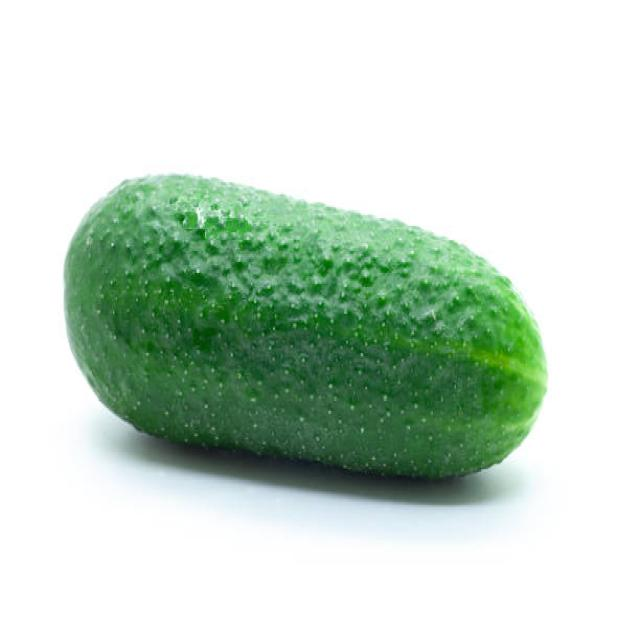cucumber: (63, 172, 550, 481)
